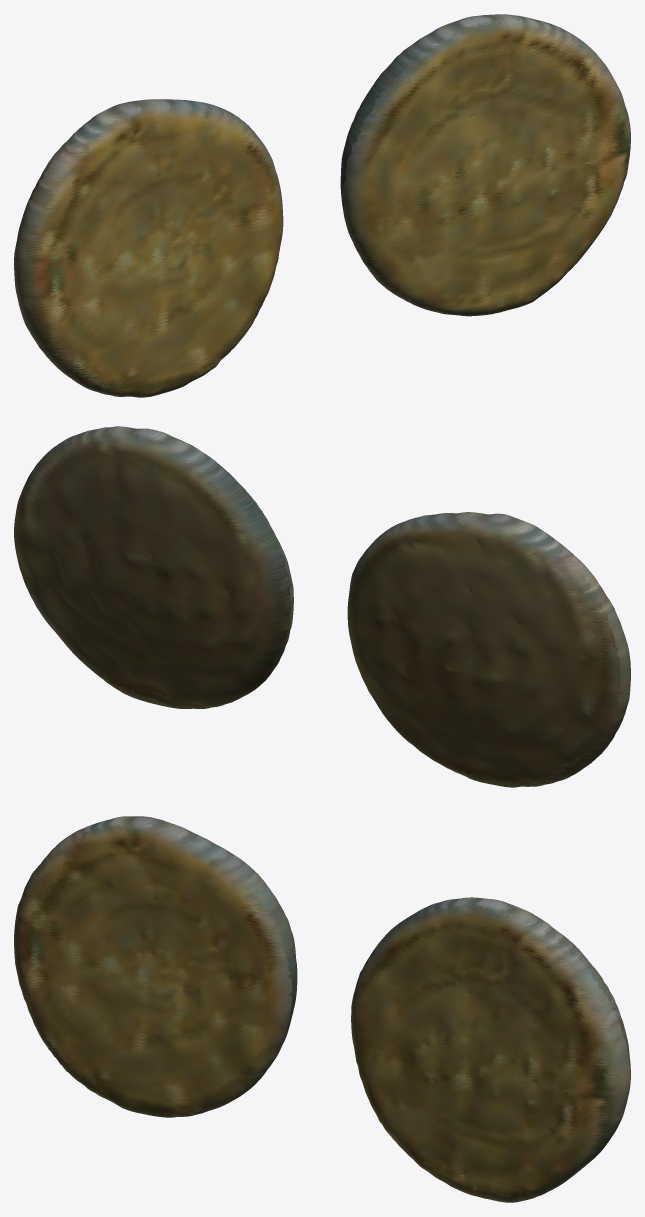
The model's file is kfl-2150.glb.
3 views of the same model, one above another, from view 1: azimuth 30°, elevation 25°; view 2: azimuth 150°, elevation 25°; view 3: azimuth 330°, elevation 25° (orthographic).
Visible parts, largest first — view 1: geometry_0; view 2: geometry_0; view 3: geometry_0.
Boxes of the visible parts, <box> form: geometry_0: <box>14,14,630,397</box>; geometry_0: <box>14,426,630,787</box>; geometry_0: <box>14,816,630,1202</box>.
Size of the model in its own units: 0.995 by 0.4409 by 0.1115.
1 material, 1 textured.
